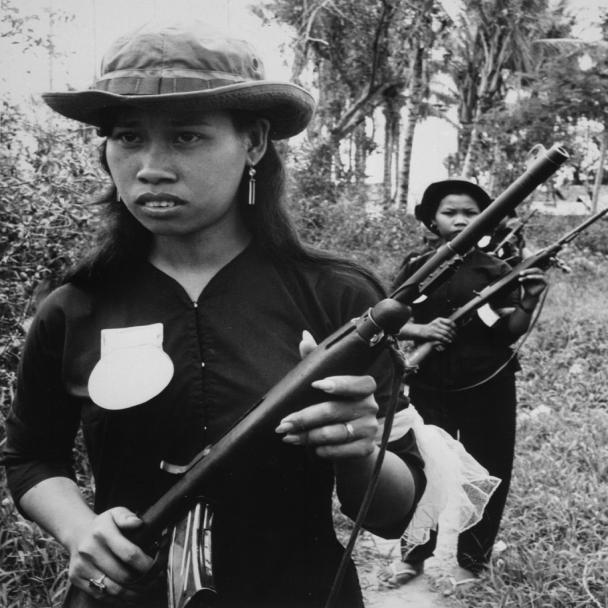Gun: (98, 126, 596, 588)
Hand: (269, 324, 427, 520), (52, 468, 182, 608)
